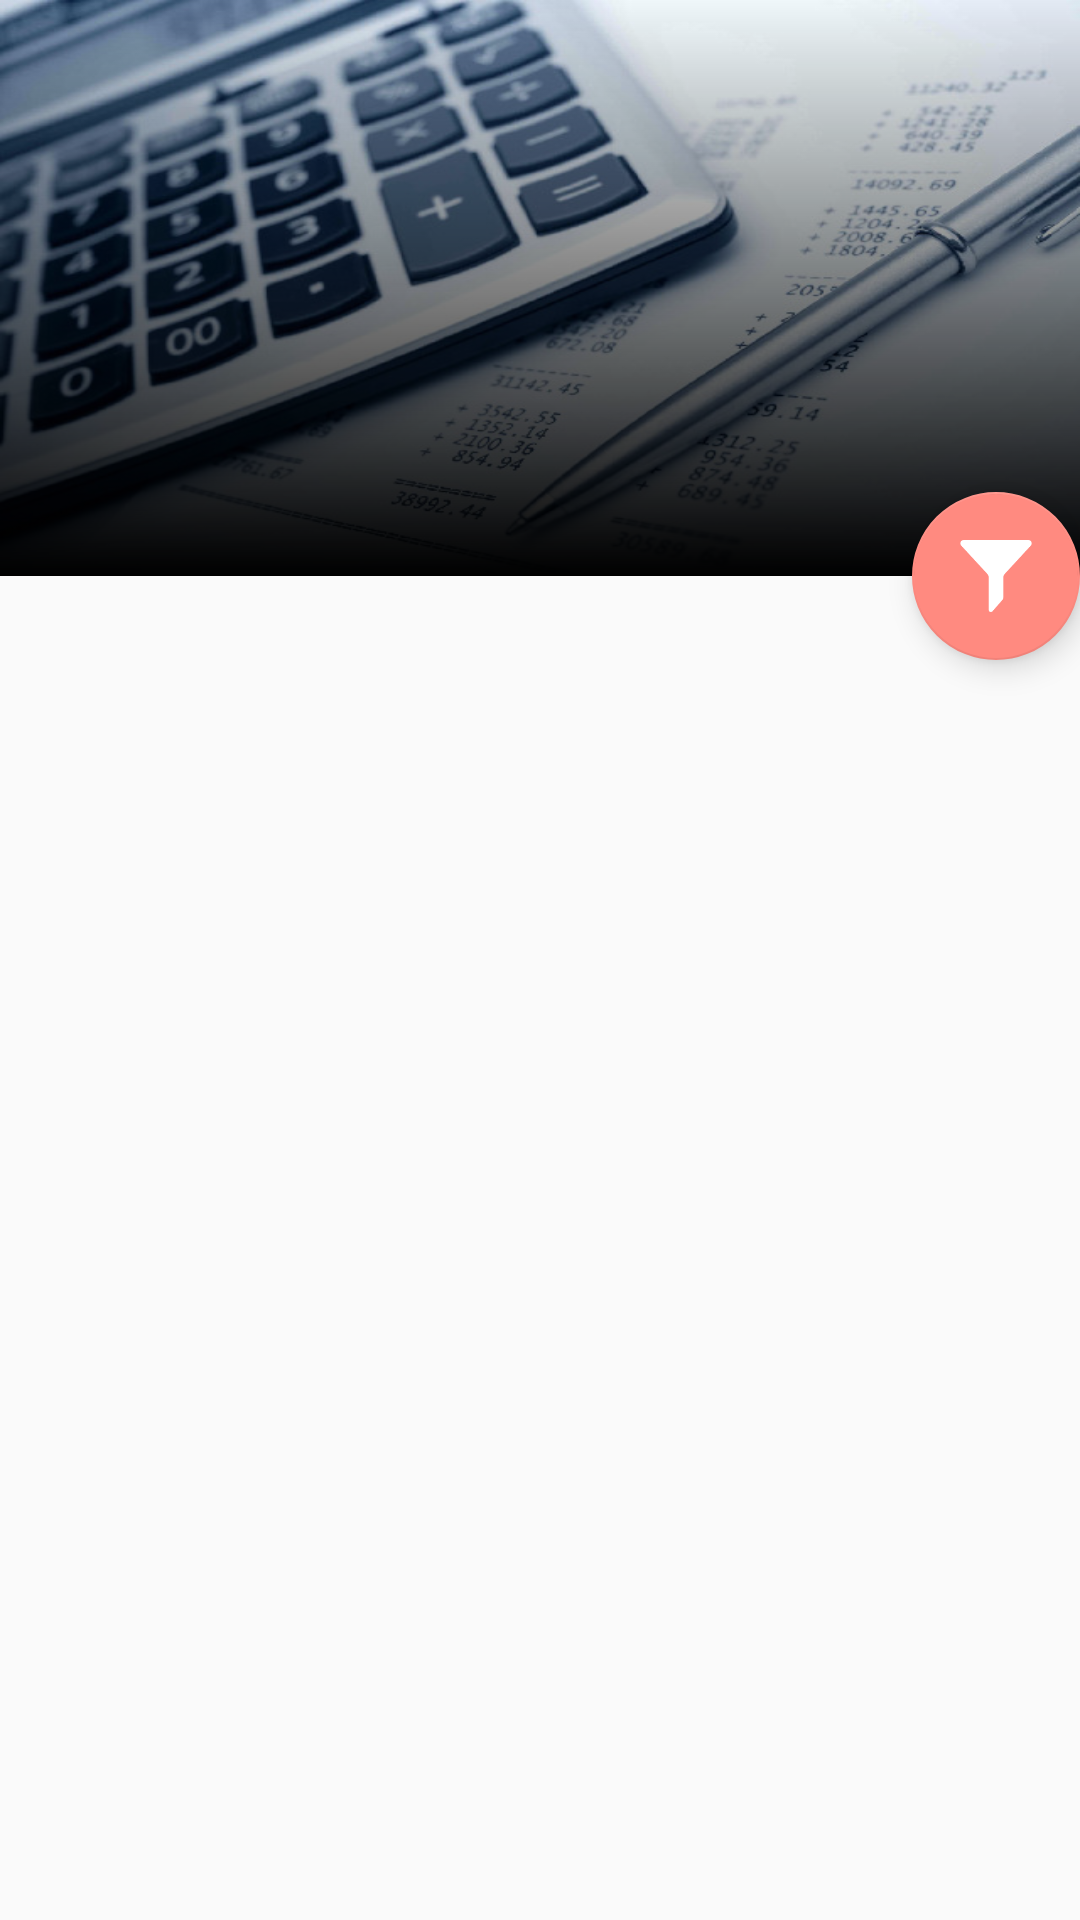

Named icons in this screenshot (1080 x 1920) and their centers, [x,y]:
filter: [996,576]
